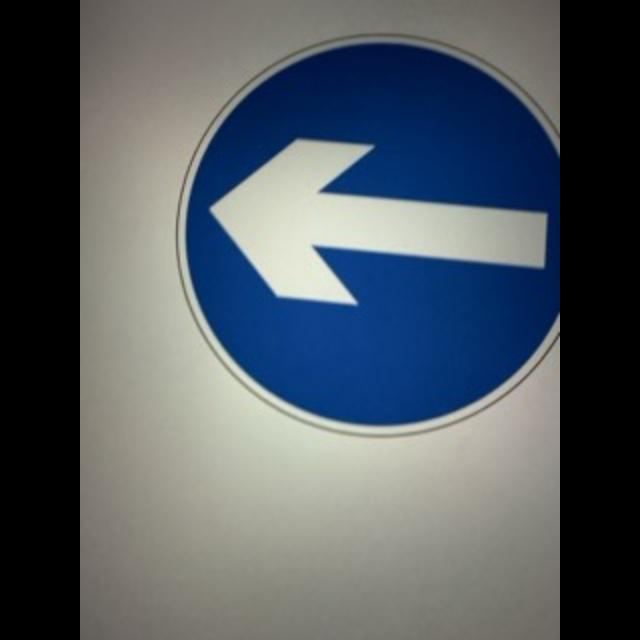TURN LEFT: (176, 34, 560, 438)
